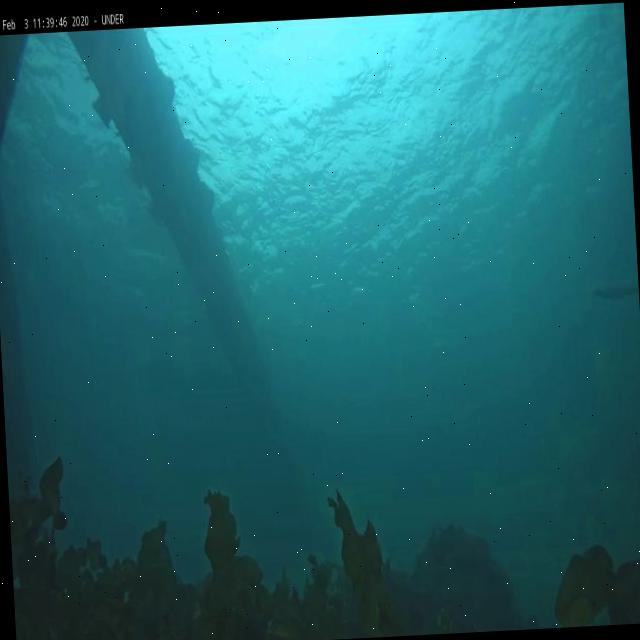fish: (592, 276, 638, 306)
